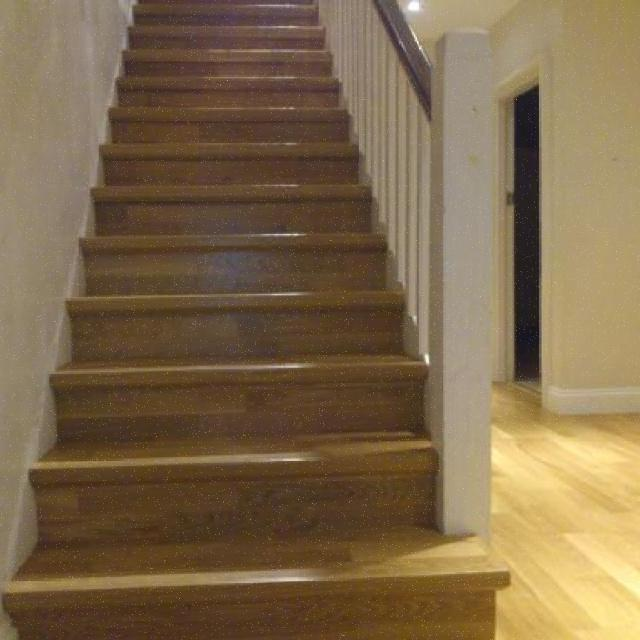stair: (2, 0, 539, 638)
